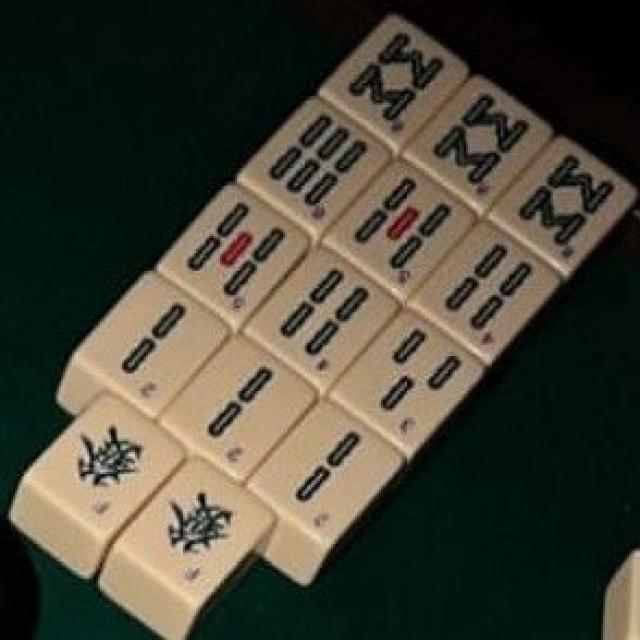fa: (158, 487, 243, 562), (74, 415, 150, 493)
s2: (202, 359, 282, 448), (114, 296, 195, 382), (285, 431, 368, 506)
s3: (370, 326, 464, 418)
s4: (275, 265, 378, 361), (448, 242, 534, 327)
s5: (180, 201, 288, 298), (354, 175, 454, 273)
s6: (266, 110, 371, 212)
s8: (516, 156, 618, 248), (433, 91, 529, 187), (341, 32, 442, 122)
